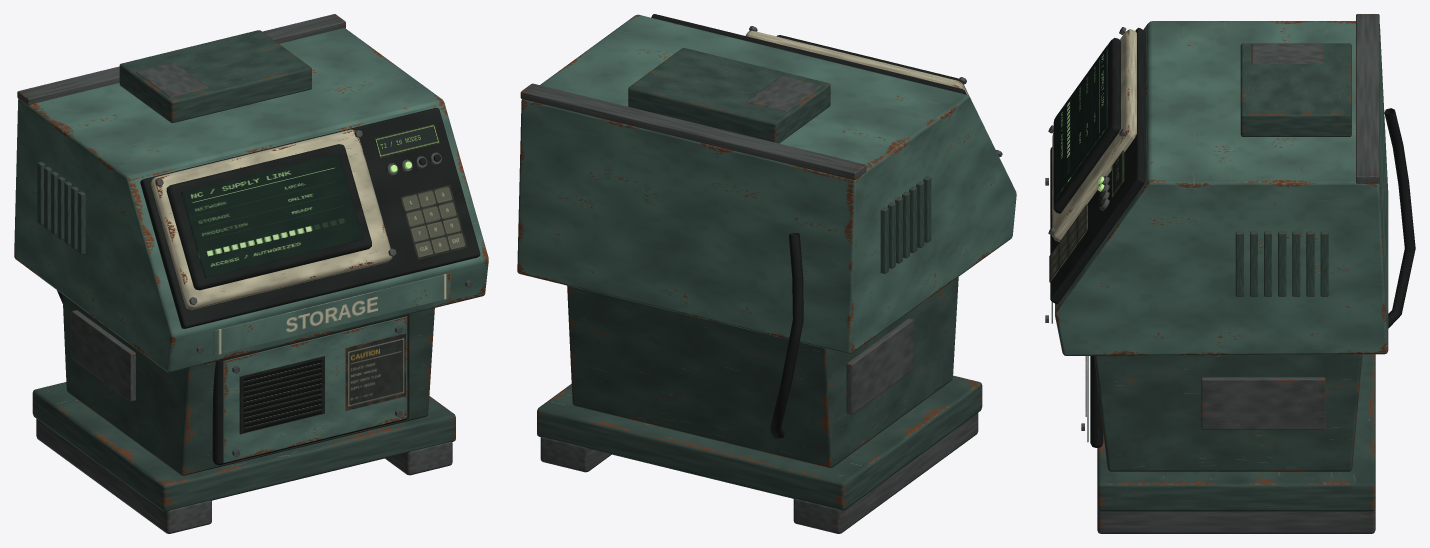
File: NC_Storage_T2.fbx
3 views of the same model, side by side, from view 1: azimuth 30°, elevation 25°; view 2: azimuth 150°, elevation 25°; view 3: azimuth 270°, elevation 25° (orthographic). The views are drawn at different scales.
Parts seen in each view (by area): view 1: NC_Storage_T2_LOD0; view 2: NC_Storage_T2_LOD0; view 3: NC_Storage_T2_LOD0.
Part boxes in pixels (x1,y1,x2,y2): NC_Storage_T2_LOD0: [14, 14, 488, 533]; NC_Storage_T2_LOD0: [517, 14, 1016, 533]; NC_Storage_T2_LOD0: [1045, 14, 1415, 533].
Size of what is drawn, in the model's own units: 0.925 by 0.992 by 0.8654.
Materials: 1 (1 with a texture image).
